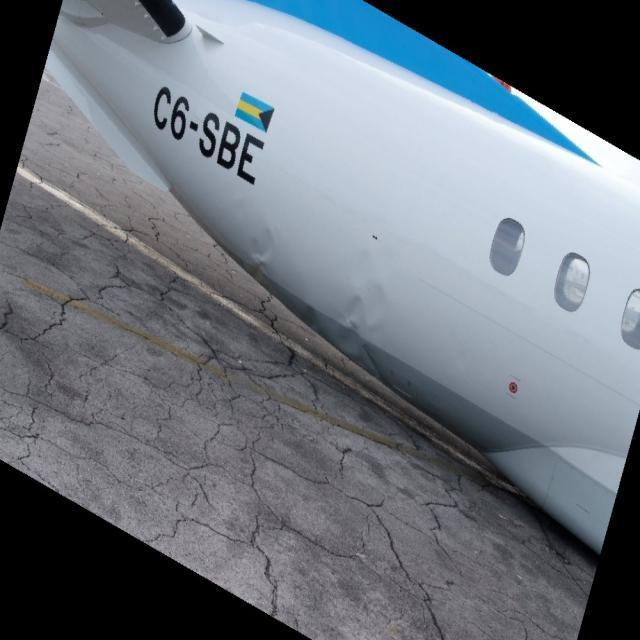dent: (303, 248, 395, 374), (245, 218, 284, 281)
